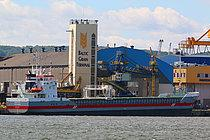Ship: (7, 61, 206, 123)
